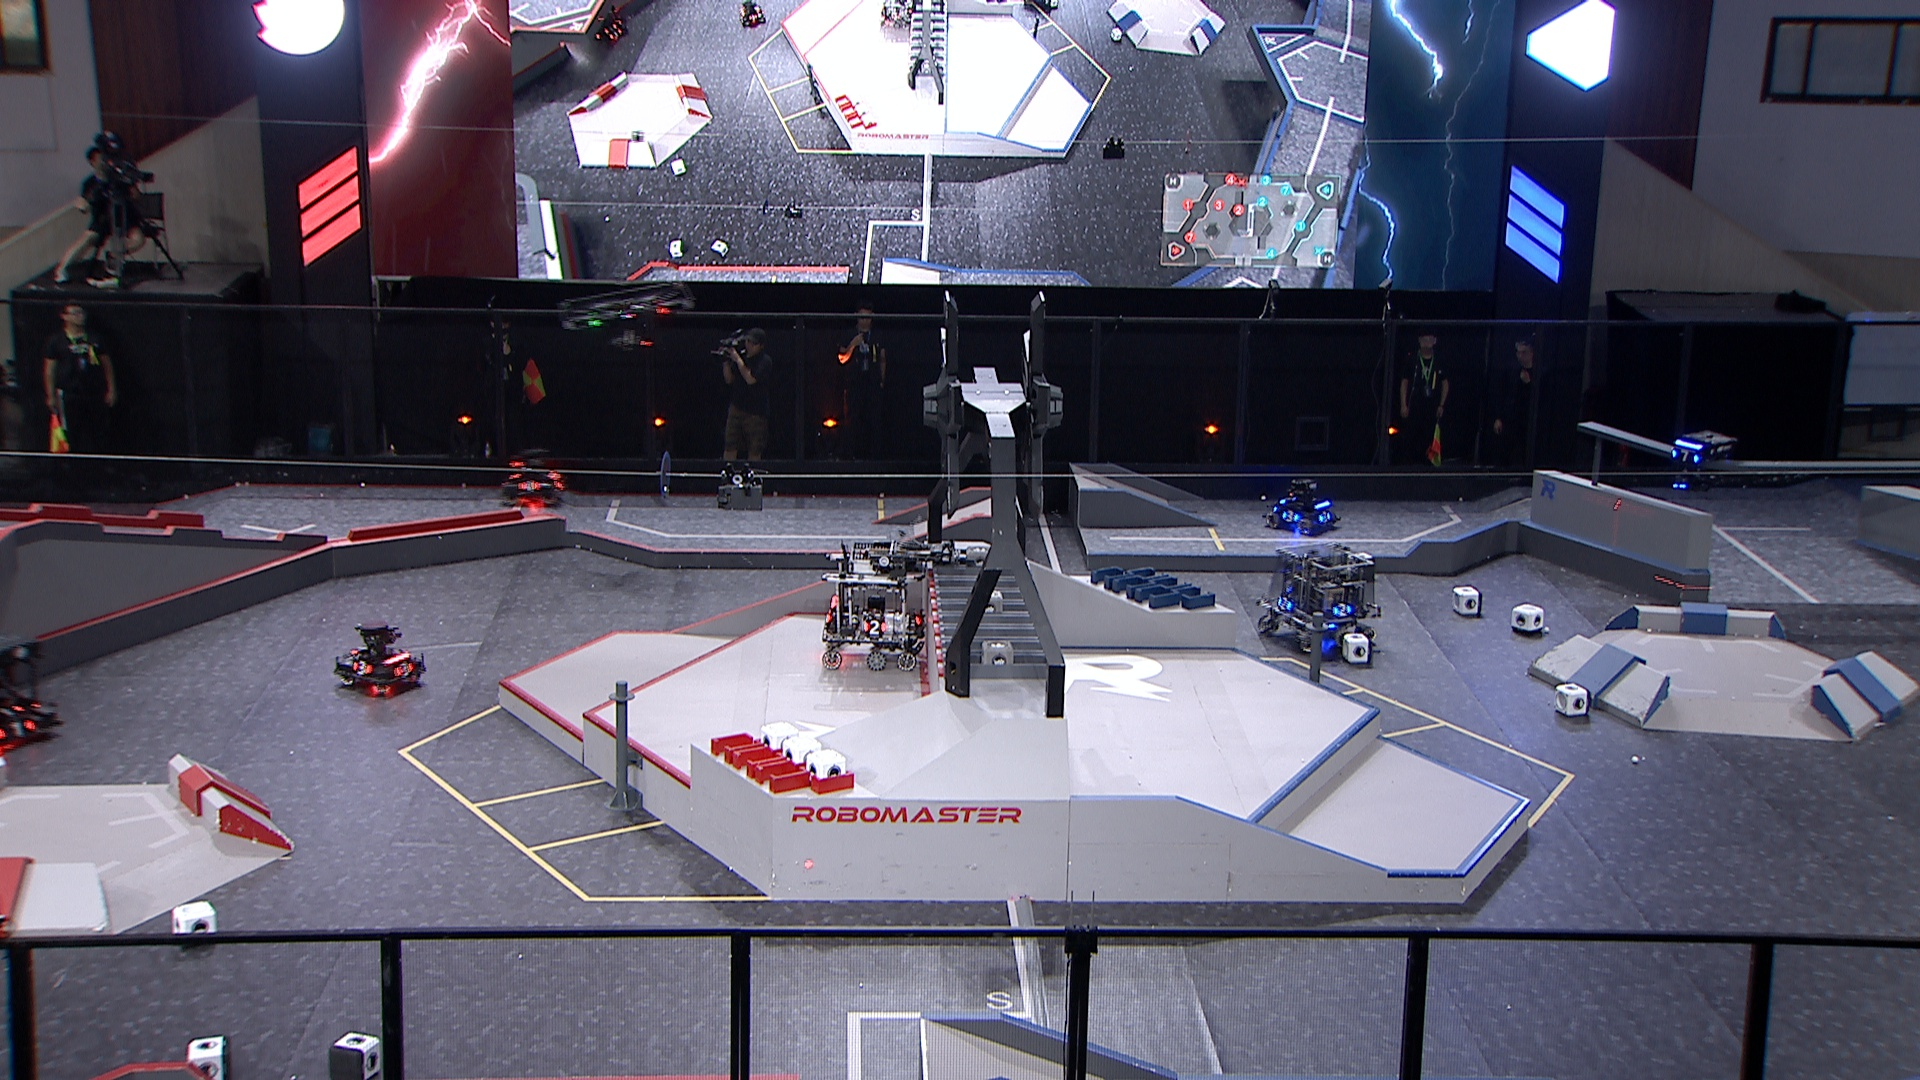armor: (1669, 448, 1700, 465), (861, 618, 889, 637), (392, 661, 415, 680), (348, 659, 372, 678), (1273, 593, 1295, 612), (516, 479, 541, 495), (1331, 603, 1353, 618), (1280, 509, 1300, 524), (1317, 510, 1333, 524)
car: (1254, 538, 1386, 654), (820, 535, 930, 673), (334, 618, 425, 699), (1261, 473, 1338, 535), (498, 448, 568, 508)
ignore: (878, 0, 910, 29), (595, 16, 626, 45), (740, 0, 765, 29)
watcher: (1669, 429, 1731, 491)
